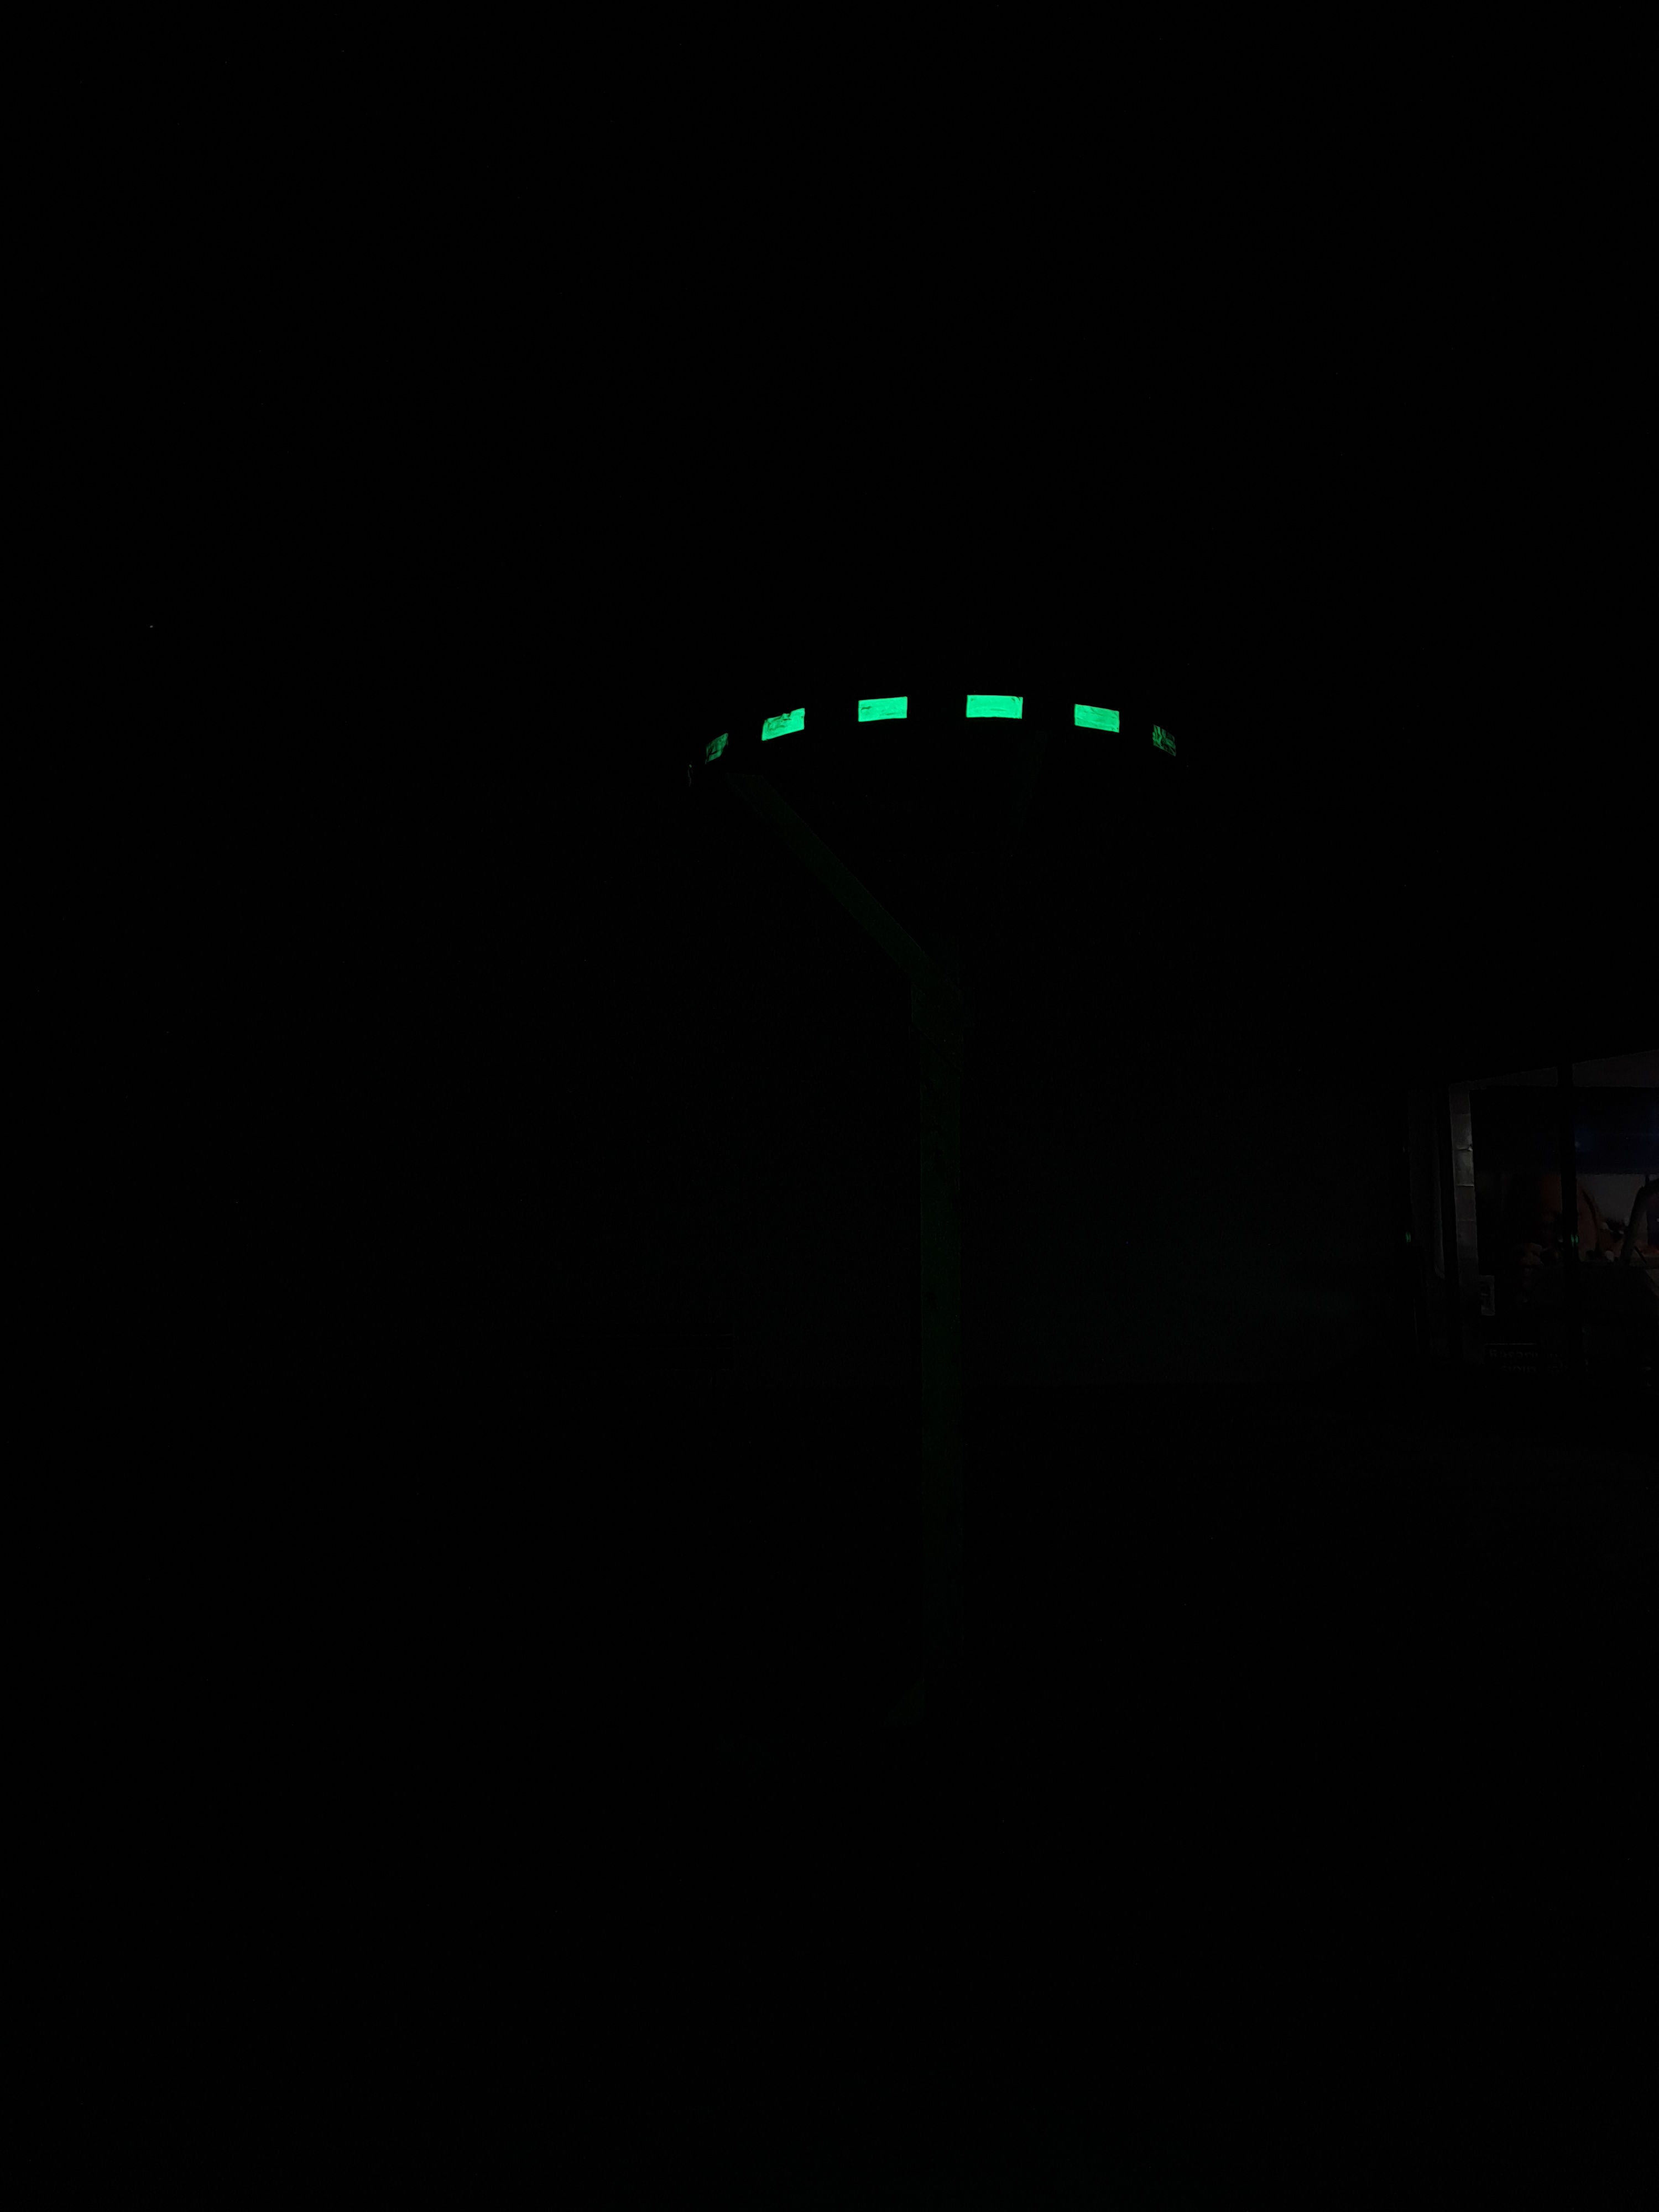hoop: (702, 693, 1183, 768)
